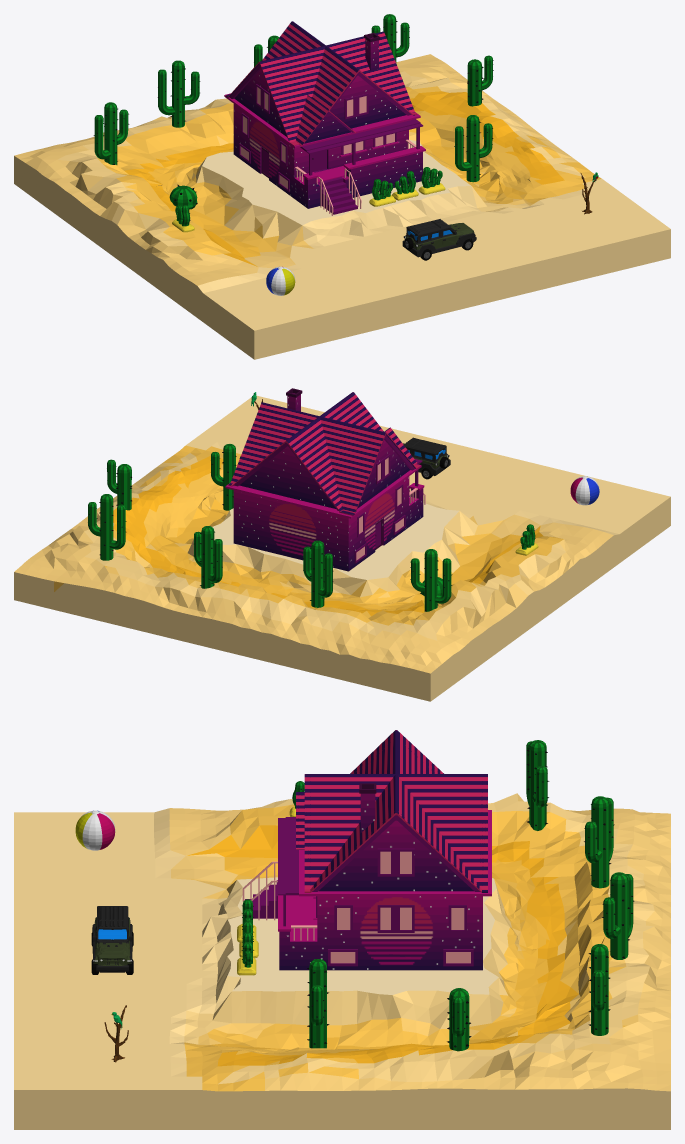
3 renders of one model, top to bottom at view 1: azimuth 30°, elevation 25°; view 2: azimuth 150°, elevation 25°; view 3: azimuth 270°, elevation 25°, orthographic. The views are drawn at different scales.
Parts seen in each view (by area): view 1: Cube.001, Cube.156, VEHICLES_JEEP, Cylinder.037, Cylinder.044, Cylinder.045, Cylinder.038, Cylinder.042, OBJRANDOM_BEACHBALL, Cylinder.039, Cylinder.041, Sphere.023 (+1 smaller); view 2: Cube.001, Cube.156, Cylinder.042, Cylinder.045, Cylinder.044, Cylinder.043, VEHICLES_JEEP, Cylinder.037, Cylinder.038, OBJRANDOM_BEACHBALL; view 3: Cube.001, Cube.156, VEHICLES_JEEP, Cylinder.043, Cylinder.044, Cylinder.045, Cylinder.042, Cylinder.037, OBJRANDOM_BEACHBALL, Cylinder.038, Cylinder.041.
Boxes of the visible parts, x1=… form: Cube.001: x1=14, y1=54, x2=670, y2=359; Cube.156: x1=224, y1=21, x2=425, y2=215; VEHICLES_JEEP: x1=402, y1=219, x2=476, y2=260; Cylinder.037: x1=454, y1=115, x2=493, y2=182; Cylinder.044: x1=157, y1=60, x2=200, y2=127; Cylinder.045: x1=93, y1=102, x2=129, y2=164; Cylinder.038: x1=467, y1=55, x2=493, y2=106; Cylinder.042: x1=371, y1=14, x2=409, y2=62; OBJRANDOM_BEACHBALL: x1=266, y1=266, x2=295, y2=295; Cylinder.039: x1=369, y1=179, x2=395, y2=206; Cylinder.041: x1=418, y1=167, x2=445, y2=194; Sphere.023: x1=169, y1=184, x2=197, y2=209; Cube.001: x1=14, y1=395, x2=670, y2=701; Cube.156: x1=225, y1=388, x2=425, y2=571; Cylinder.042: x1=88, y1=494, x2=126, y2=560; Cylinder.045: x1=410, y1=549, x2=452, y2=611; Cylinder.044: x1=303, y1=540, x2=333, y2=607; Cylinder.043: x1=193, y1=526, x2=222, y2=588; VEHICLES_JEEP: x1=403, y1=437, x2=450, y2=479; Cylinder.037: x1=211, y1=444, x2=240, y2=510; Cylinder.038: x1=107, y1=459, x2=131, y2=510; OBJRANDOM_BEACHBALL: x1=570, y1=476, x2=599, y2=505; Cube.001: x1=14, y1=793, x2=670, y2=1129; Cube.156: x1=242, y1=730, x2=491, y2=970; VEHICLES_JEEP: x1=91, y1=906, x2=133, y2=974; Cylinder.043: x1=602, y1=872, x2=634, y2=959; Cylinder.044: x1=584, y1=796, x2=614, y2=888; Cylinder.045: x1=526, y1=740, x2=549, y2=830; Cylinder.042: x1=588, y1=944, x2=610, y2=1035; Cylinder.037: x1=307, y1=959, x2=329, y2=1048; OBJRANDOM_BEACHBALL: x1=75, y1=810, x2=115, y2=850; Cylinder.038: x1=447, y1=988, x2=471, y2=1051; Cylinder.041: x1=237, y1=932, x2=256, y2=975.
Bounding box in the file's own units: 4002 × 1605 × 4001.
35 materials, 4 textured.
